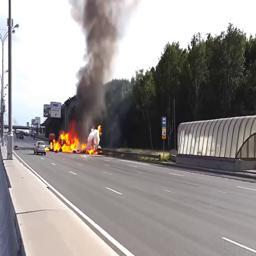fire: (47, 124, 100, 157)
